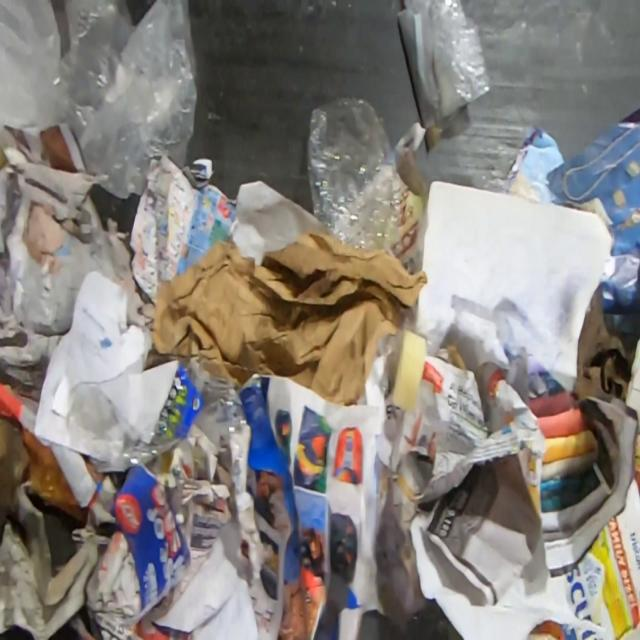cardboard: (152, 231, 428, 406), (550, 475, 640, 640), (574, 284, 637, 404), (560, 623, 597, 640)
soft_plastic: (64, 355, 249, 476), (304, 95, 406, 259), (401, 0, 494, 120)
